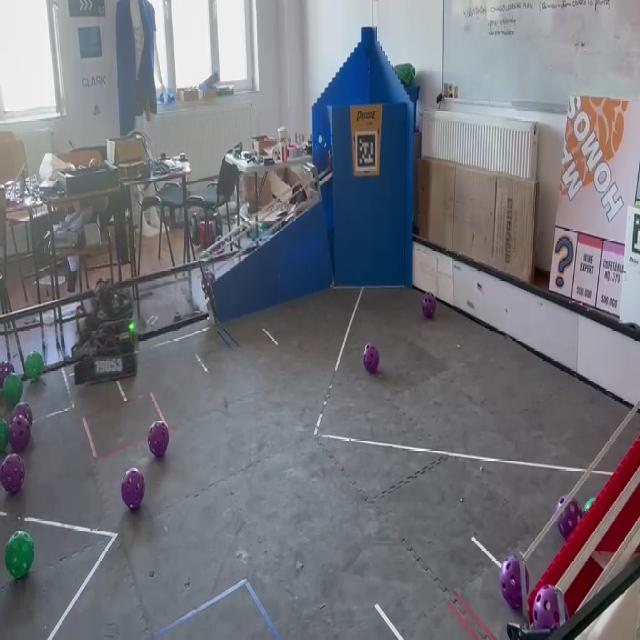artifact_green: (5, 532, 34, 579), (3, 374, 23, 406), (25, 352, 44, 382), (0, 418, 8, 453), (583, 498, 595, 515)
artifact_purple: (532, 586, 560, 631), (557, 496, 582, 540), (0, 454, 24, 494), (122, 468, 144, 510), (9, 415, 31, 453), (148, 421, 169, 457), (12, 403, 33, 426), (364, 344, 379, 374), (422, 293, 436, 319), (0, 362, 14, 387), (202, 269, 214, 297), (525, 568, 529, 593)
